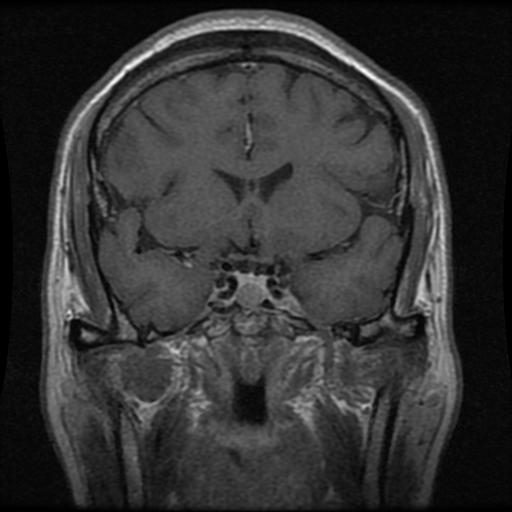Pituirity_tumour: (235, 273, 265, 305)
